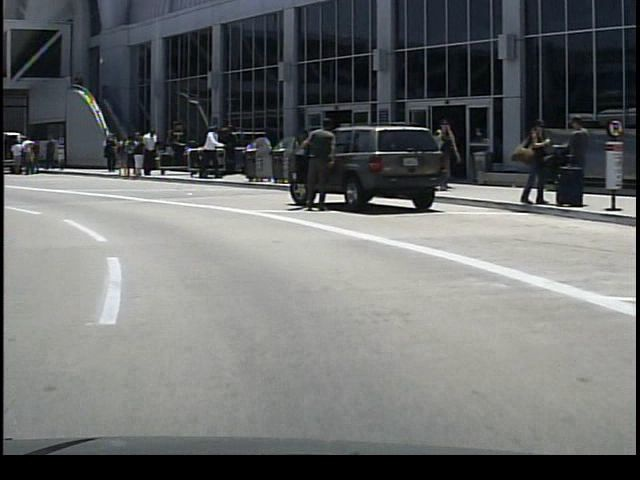person: (295, 116, 335, 219), (512, 116, 549, 206), (554, 113, 590, 205), (429, 116, 464, 196), (197, 121, 222, 182), (37, 130, 59, 177), (124, 131, 145, 180), (19, 132, 39, 176), (96, 130, 115, 175), (140, 126, 156, 178), (5, 138, 23, 178)
